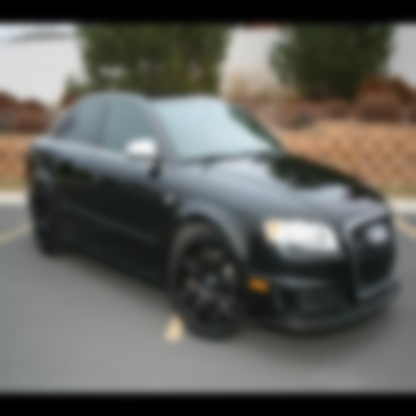Vehicle: (23, 91, 400, 343)
